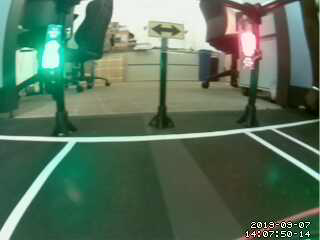Left_Right_sign: (146, 15, 186, 39)
Traffic_light_green: (47, 25, 58, 66)
Traffic_light_red: (241, 22, 258, 67)
